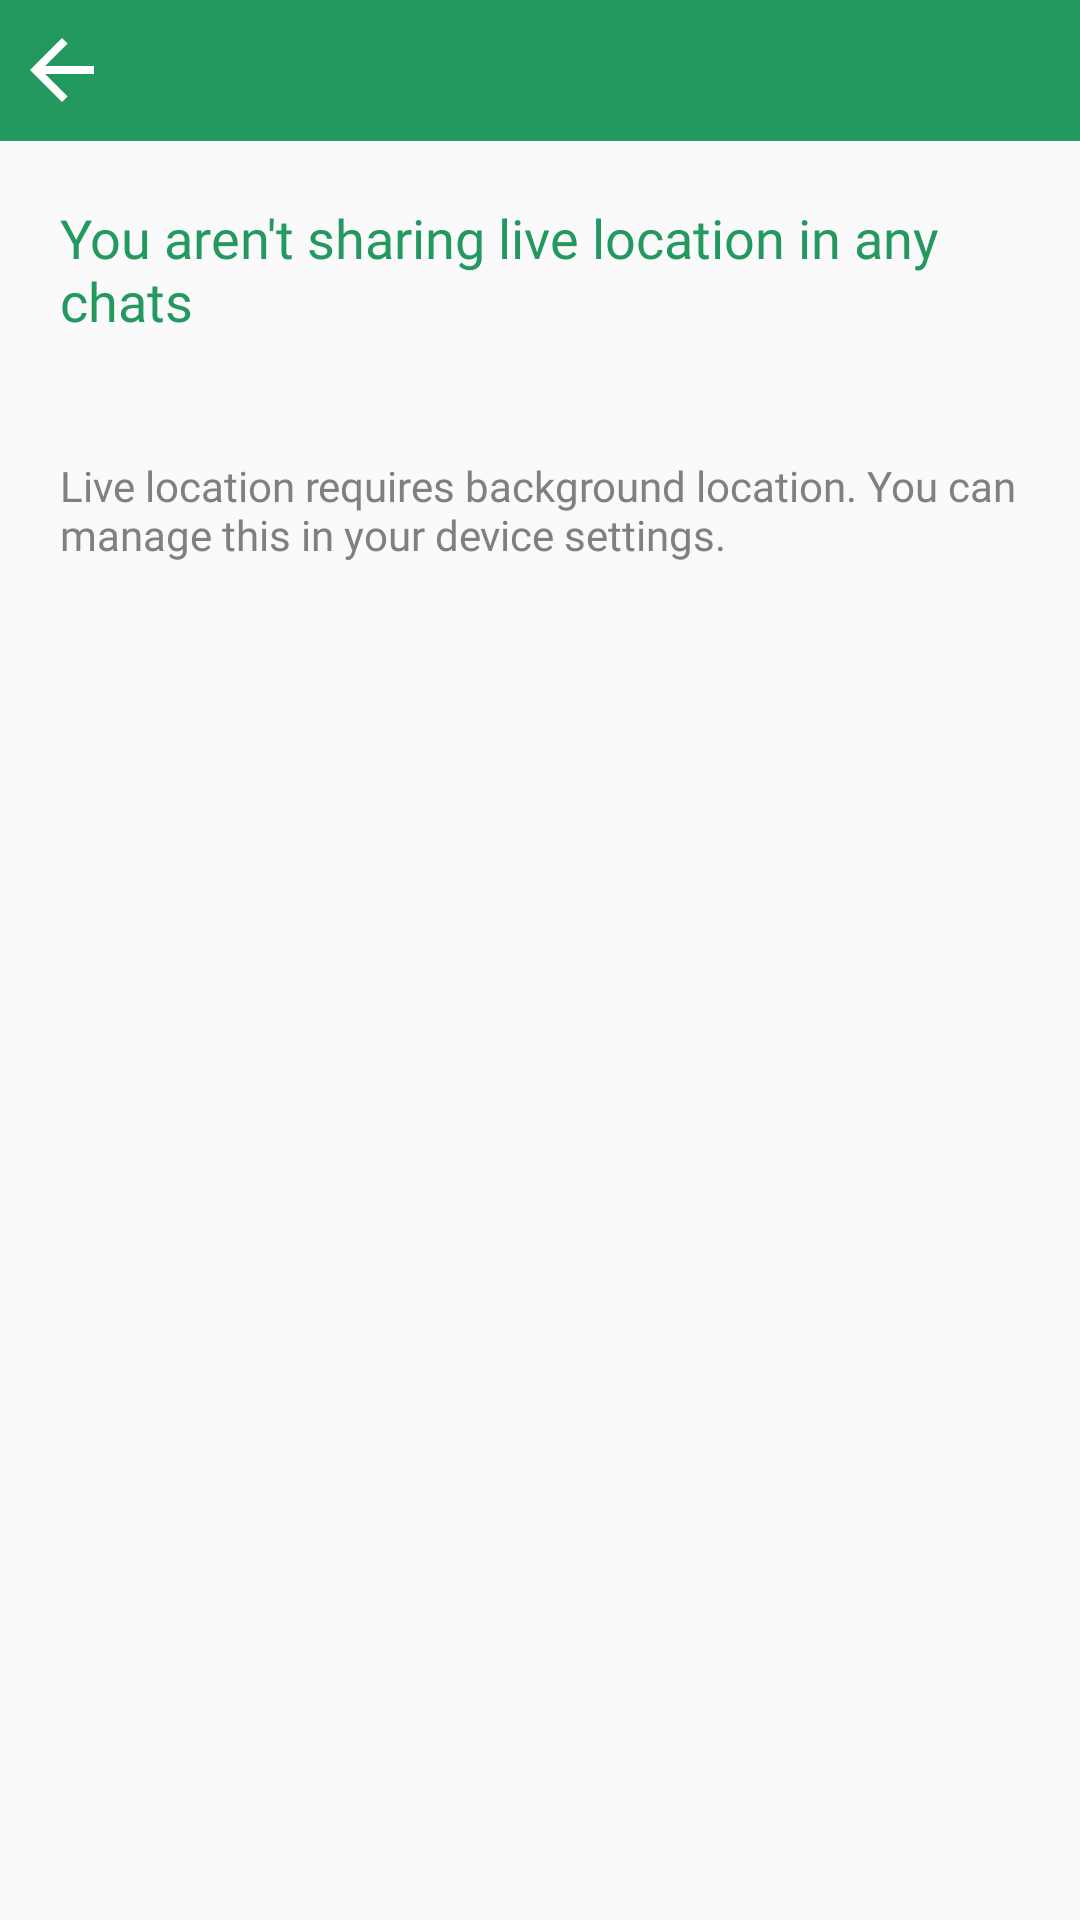

Where icons sit on this 1080×1920 app screen, as [left=x1, top=y1, right=x2, bottom=y2]:
back arrow: [left=30, top=38, right=94, bottom=102]
